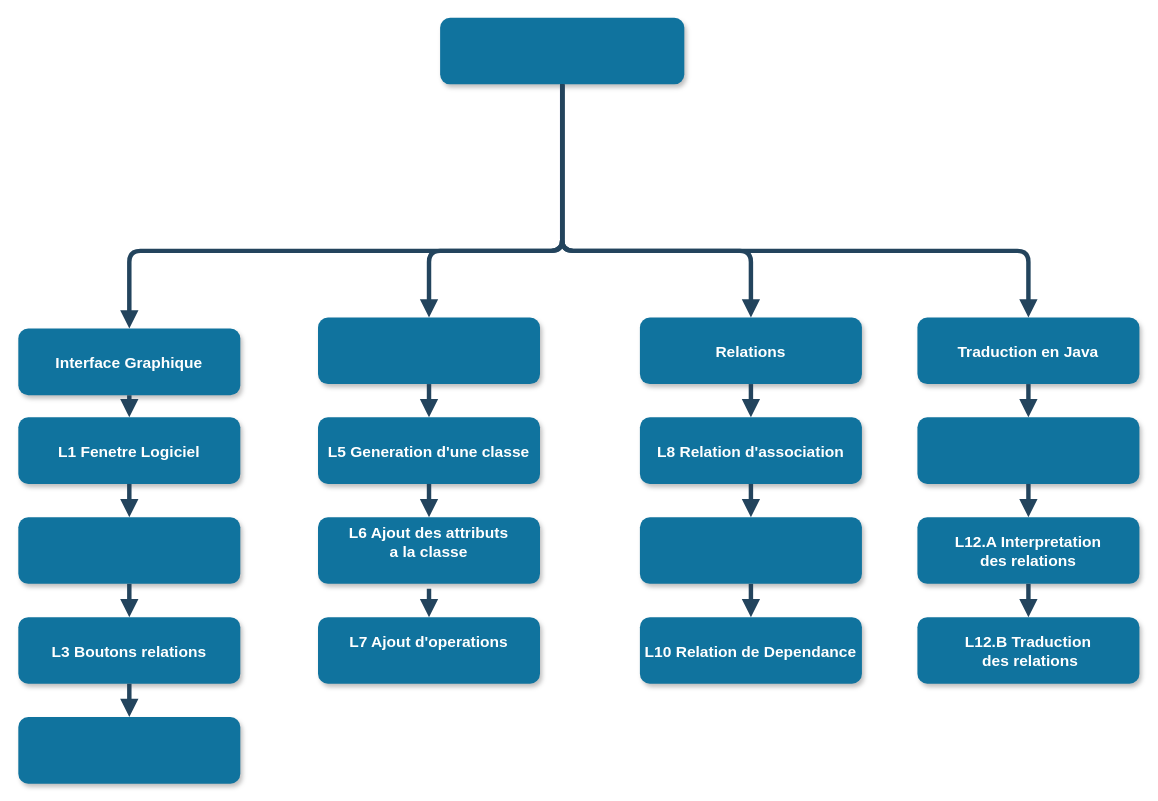
Some shapes in this 1158 by 801 pixel diagram are drawn without their labels. The centre of each missing label's shape, as x and y in pixels:
Chef de Projet: the point at 562,52
Creation de classes: the point at 429,351
L11 Traduction de la classe (attributs et operations): the point at 1029,451
L2 Bouton classe: the point at 129,551
L4 Ajout d'attributs et d'operations: the point at 129,751
L9 Relation de Generalisation: the point at 751,551
